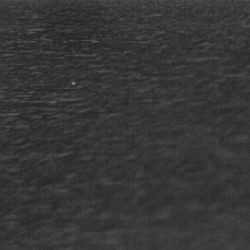dim target: (69, 80, 76, 86)
